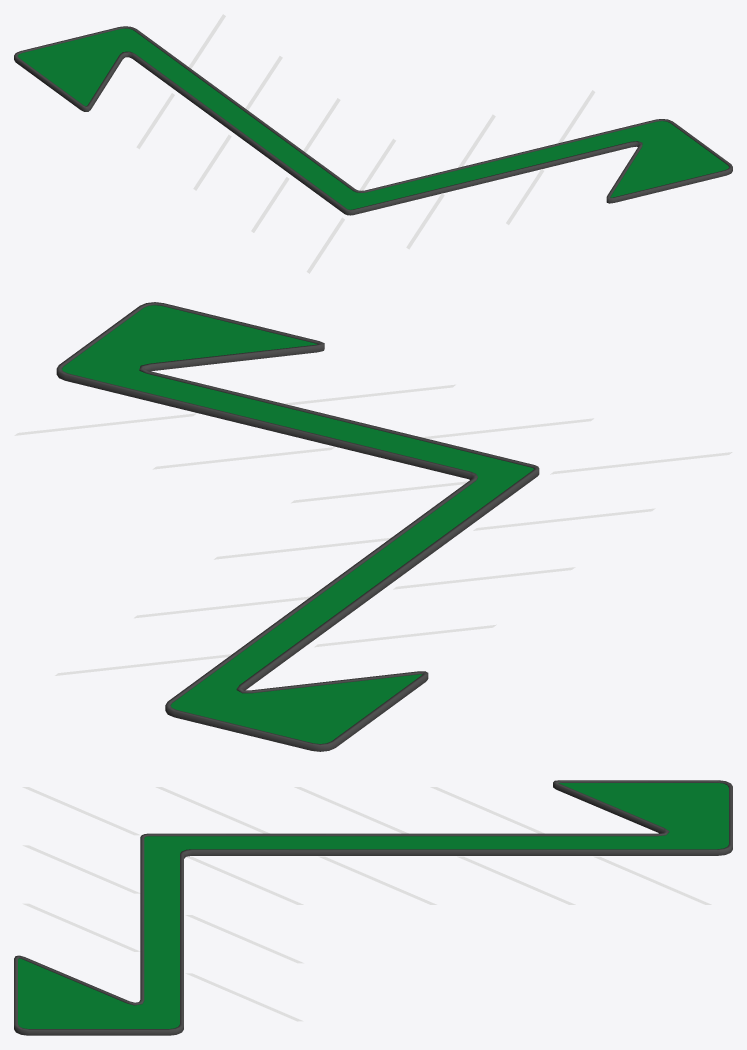
The model's file is Park-05b.fbx.
3 renders of one model, top to bottom at view 1: azimuth 30°, elevation 25°; view 2: azimuth 150°, elevation 25°; view 3: azimuth 270°, elevation 25°, orthographic. The views are drawn at different scales.
Visible parts, largest first — view 1: Park-05; view 2: Park-05; view 3: Park-05.
Part boxes in pixels (left/top/right/bottom): Park-05: left=14, top=14, right=732, bottom=273; Park-05: left=14, top=302, right=732, bottom=751; Park-05: left=14, top=780, right=732, bottom=1035.
Size of what is drawn, in the model's own units: 21.5 by 0.2 by 26.07.
